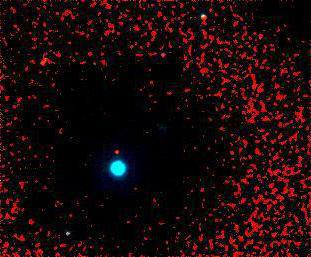star: (102, 138, 132, 168)
